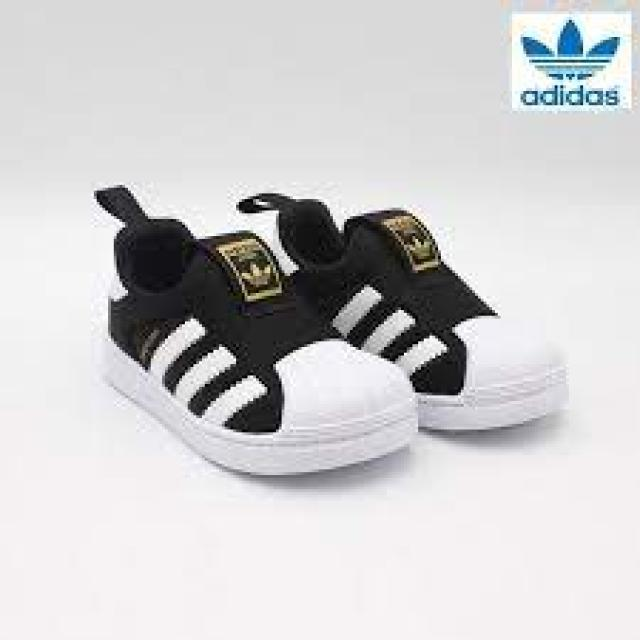shoe: (89, 183, 574, 481), (92, 187, 423, 485)
